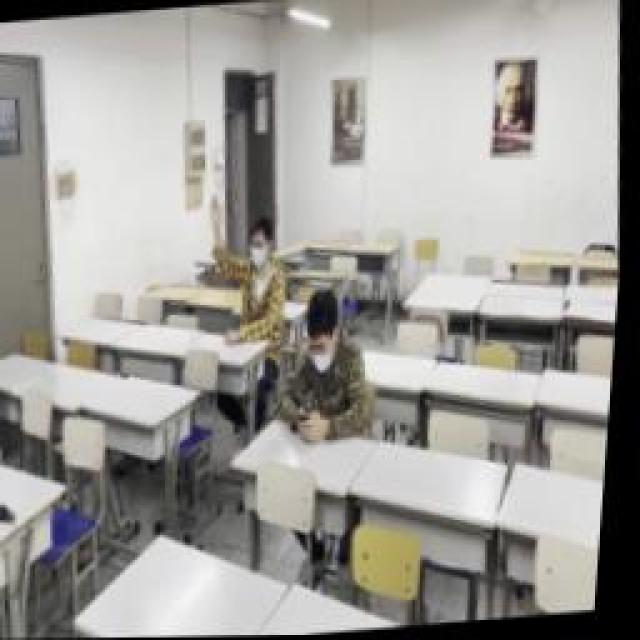phone: (280, 285, 382, 443)
study: (203, 190, 295, 342)
